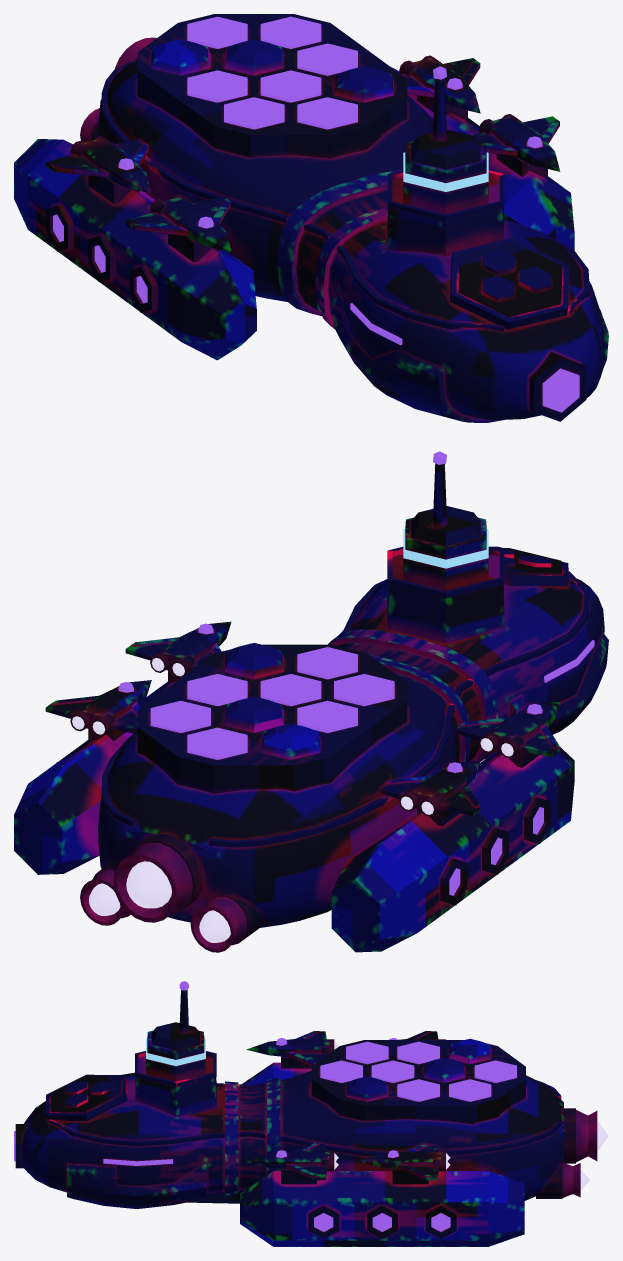
Rendered from hive.glb.
3 renders of one model, top to bottom at view 1: azimuth 30°, elevation 25°; view 2: azimuth 150°, elevation 25°; view 3: azimuth 270°, elevation 25°, orthographic. The views are drawn at different scales.
Parts seen in each view (by area): view 1: hive; view 2: hive; view 3: hive.
Boxes of the visible parts, x1,y1,x2,y2 form: hive: (14, 14, 608, 422); hive: (14, 451, 608, 952); hive: (14, 981, 608, 1246).
Bounding box in the file's own units: 6.19 × 4.46 × 10.66.
Materials: 13 (9 with a texture image).
